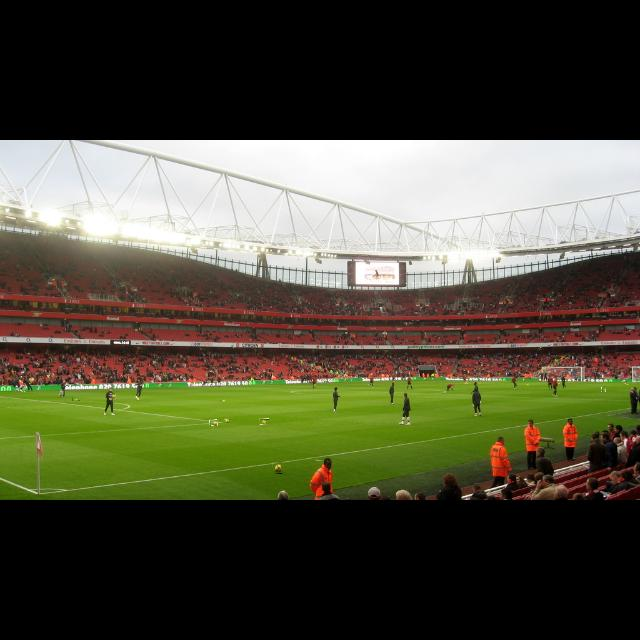Football: (272, 462, 282, 474), (259, 419, 269, 425), (72, 395, 80, 401), (210, 420, 218, 426), (110, 393, 116, 399), (220, 398, 226, 402), (602, 386, 606, 392), (224, 418, 230, 420)
